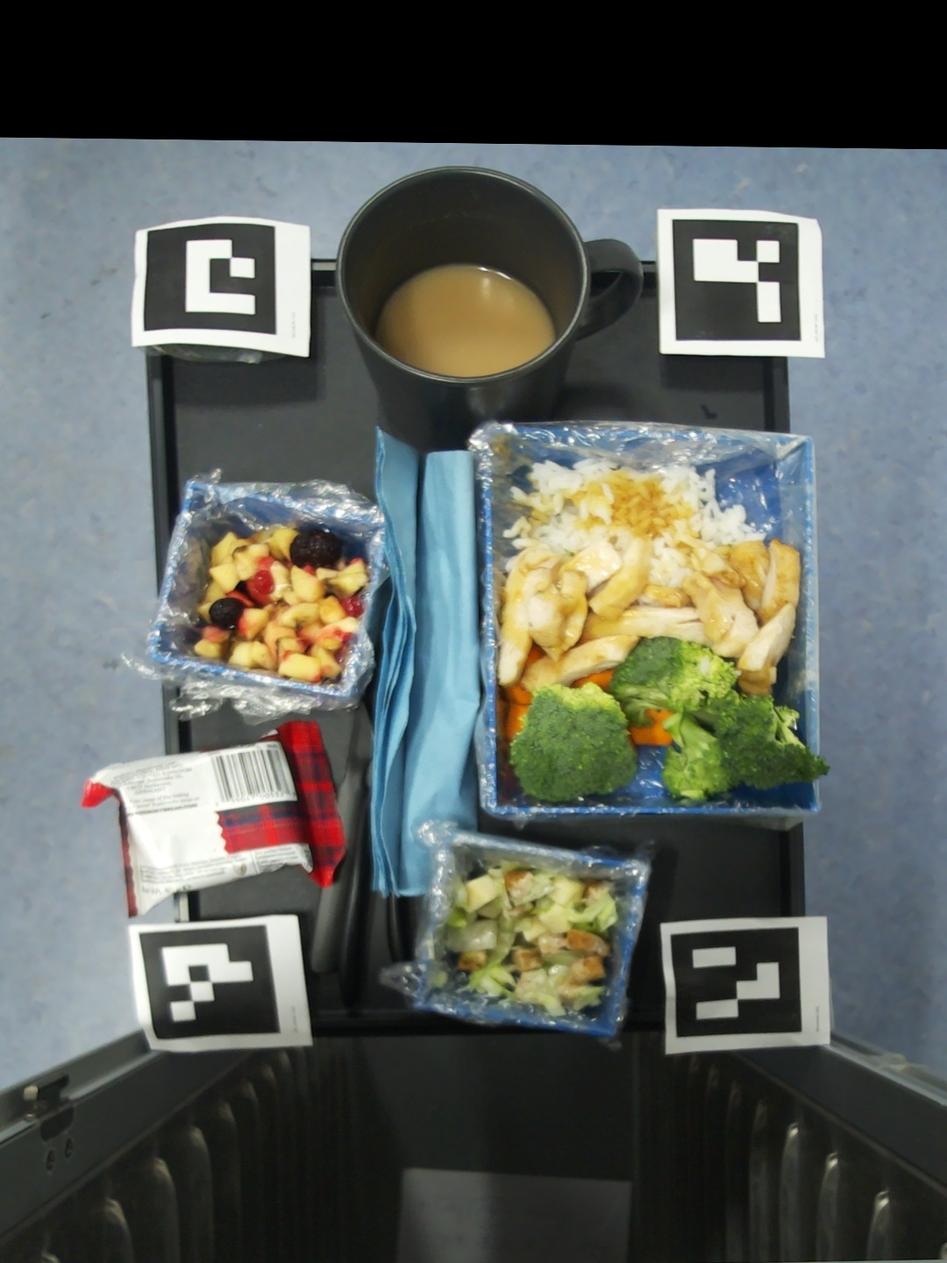broccoli: (514, 638, 831, 804)
carrots: (632, 711, 675, 749), (508, 685, 533, 743), (574, 670, 614, 691), (527, 648, 547, 667)
chicken: (500, 532, 801, 695)
coffee_cup: (337, 166, 643, 452)
cookie: (80, 721, 347, 918)
fruit_salad: (194, 526, 368, 683)
rice: (505, 458, 768, 610), (505, 555, 517, 573), (767, 666, 778, 685), (736, 669, 744, 676)
side_salad: (445, 859, 620, 1017), (433, 971, 446, 988)
